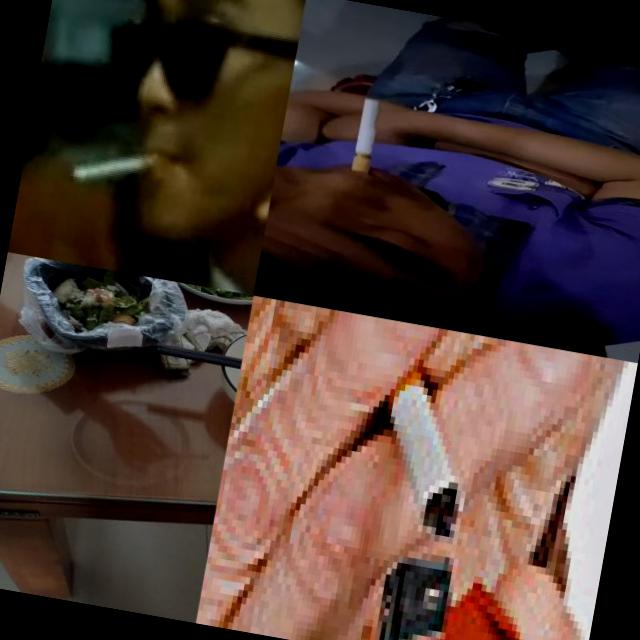cigarette: (348, 335, 491, 542), (69, 135, 169, 198), (350, 97, 380, 176)
